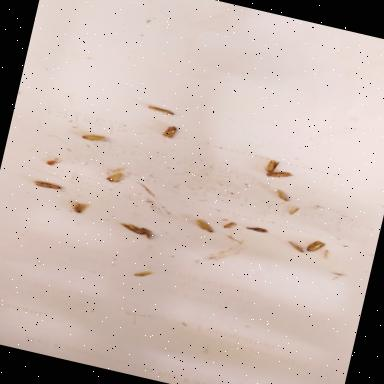pbw: (266, 168, 294, 182), (119, 222, 147, 236), (148, 106, 180, 118), (264, 158, 284, 176), (34, 180, 63, 192), (306, 239, 326, 256), (194, 218, 215, 234), (80, 132, 107, 144), (106, 170, 126, 186), (161, 124, 178, 142), (134, 268, 152, 280), (288, 242, 306, 253), (72, 201, 86, 214), (276, 190, 290, 202), (224, 220, 237, 231)
